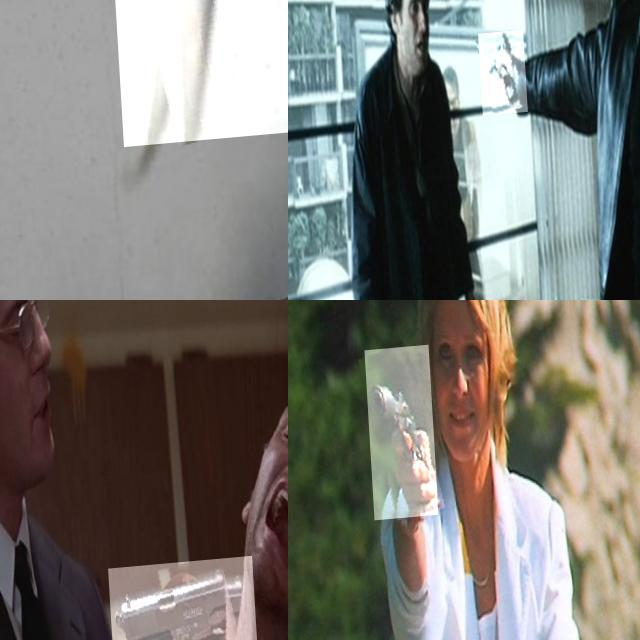-: (98, 0, 288, 207)
gun-knife-thesis - v11 Yolov5 augmented: (362, 352, 434, 526), (103, 563, 259, 640), (474, 36, 524, 121)
